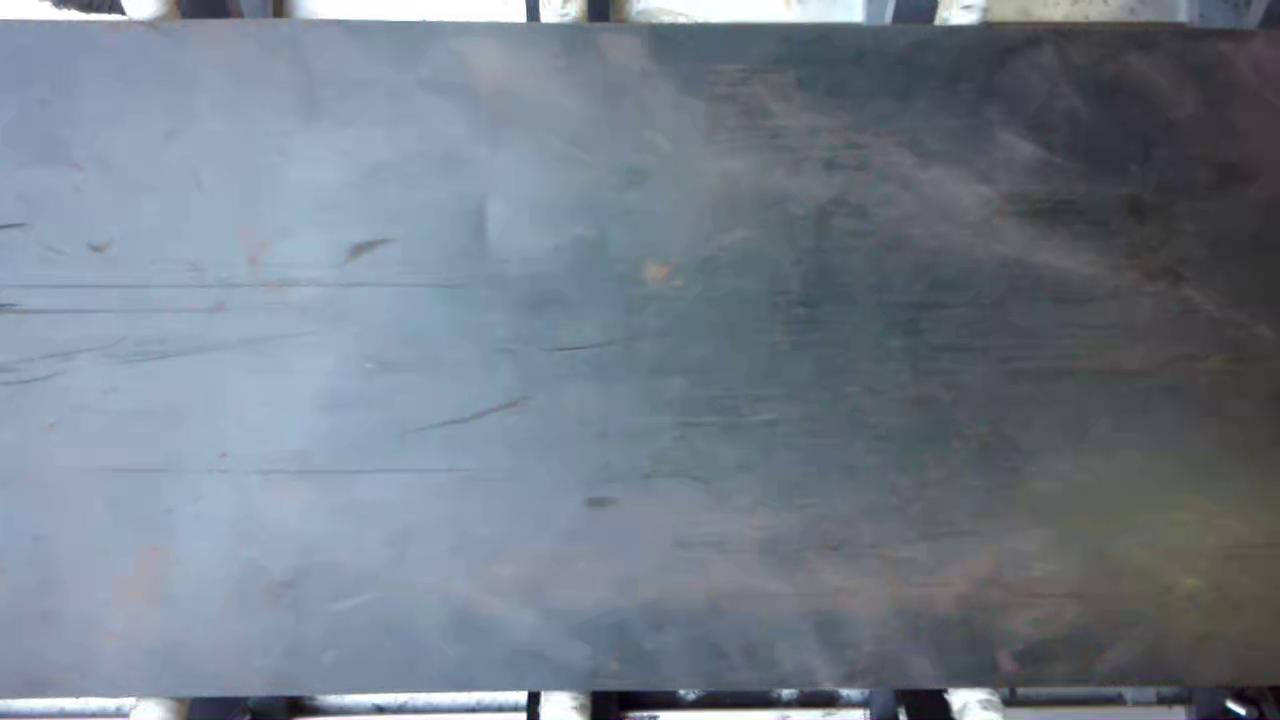conveyor: (1, 28, 1280, 690)
